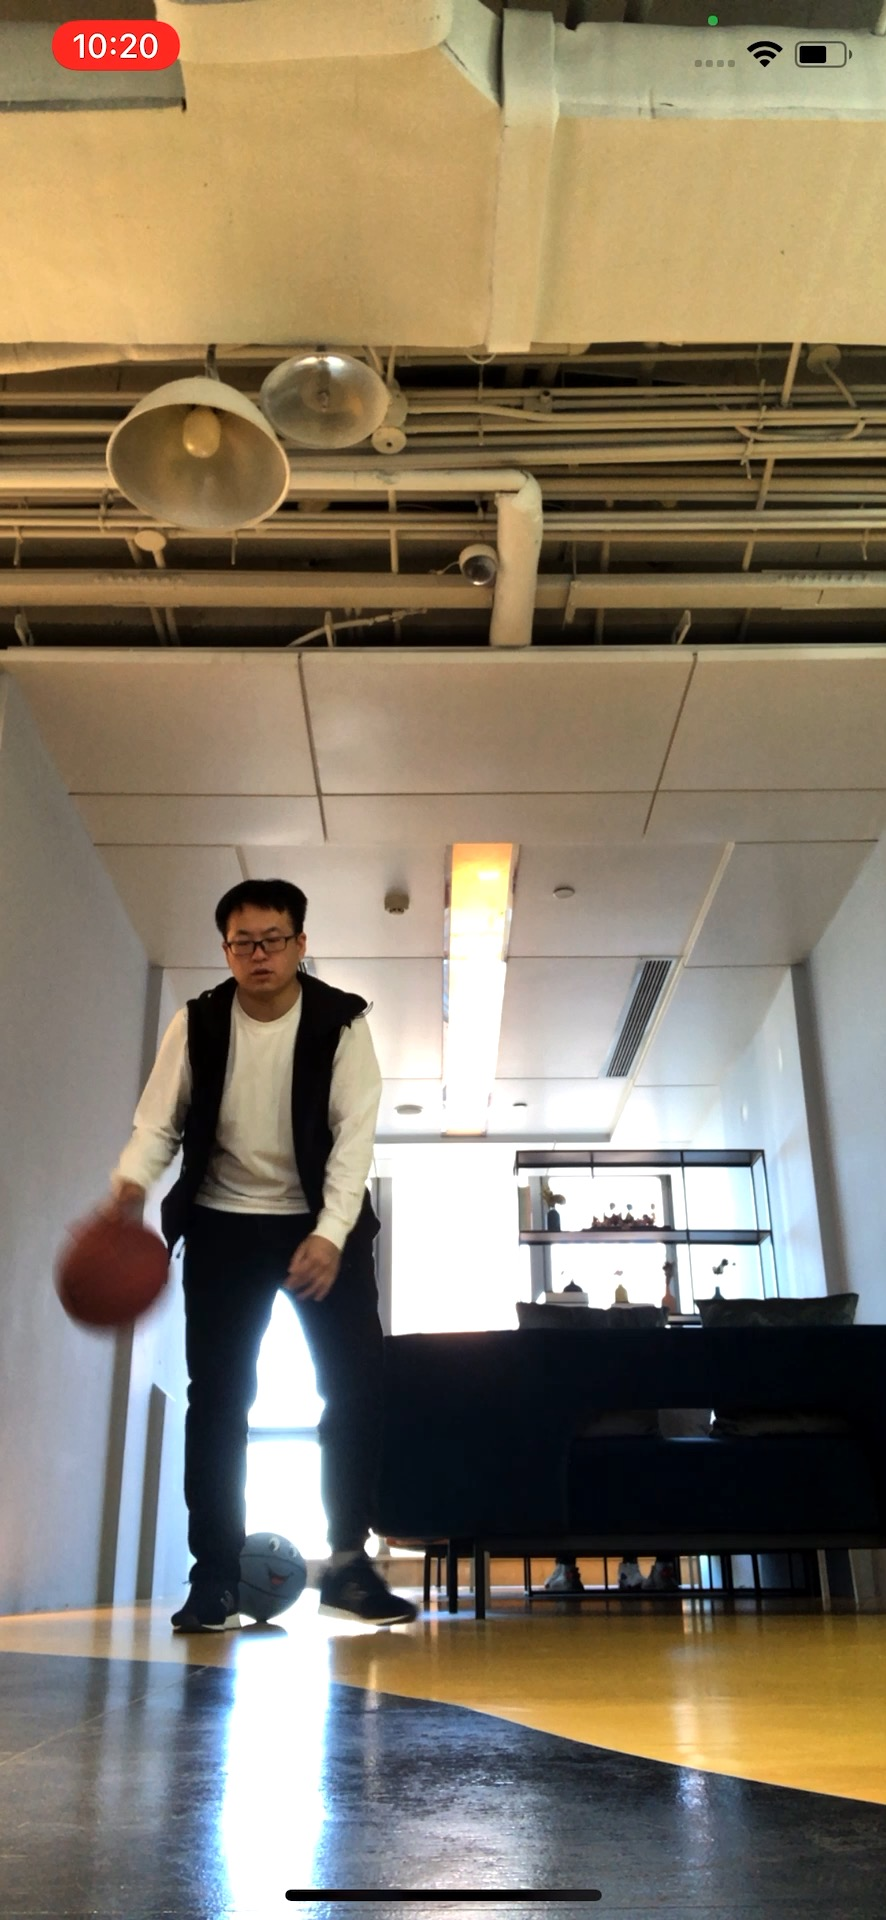ball: (55, 1221, 170, 1327)
